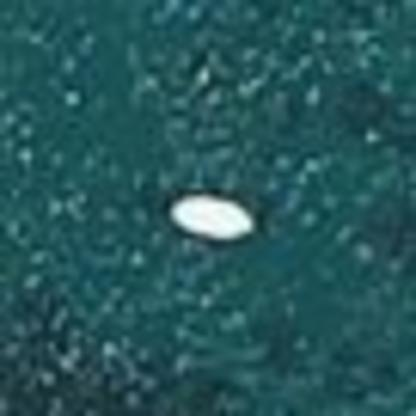ship: (155, 184, 264, 244)
